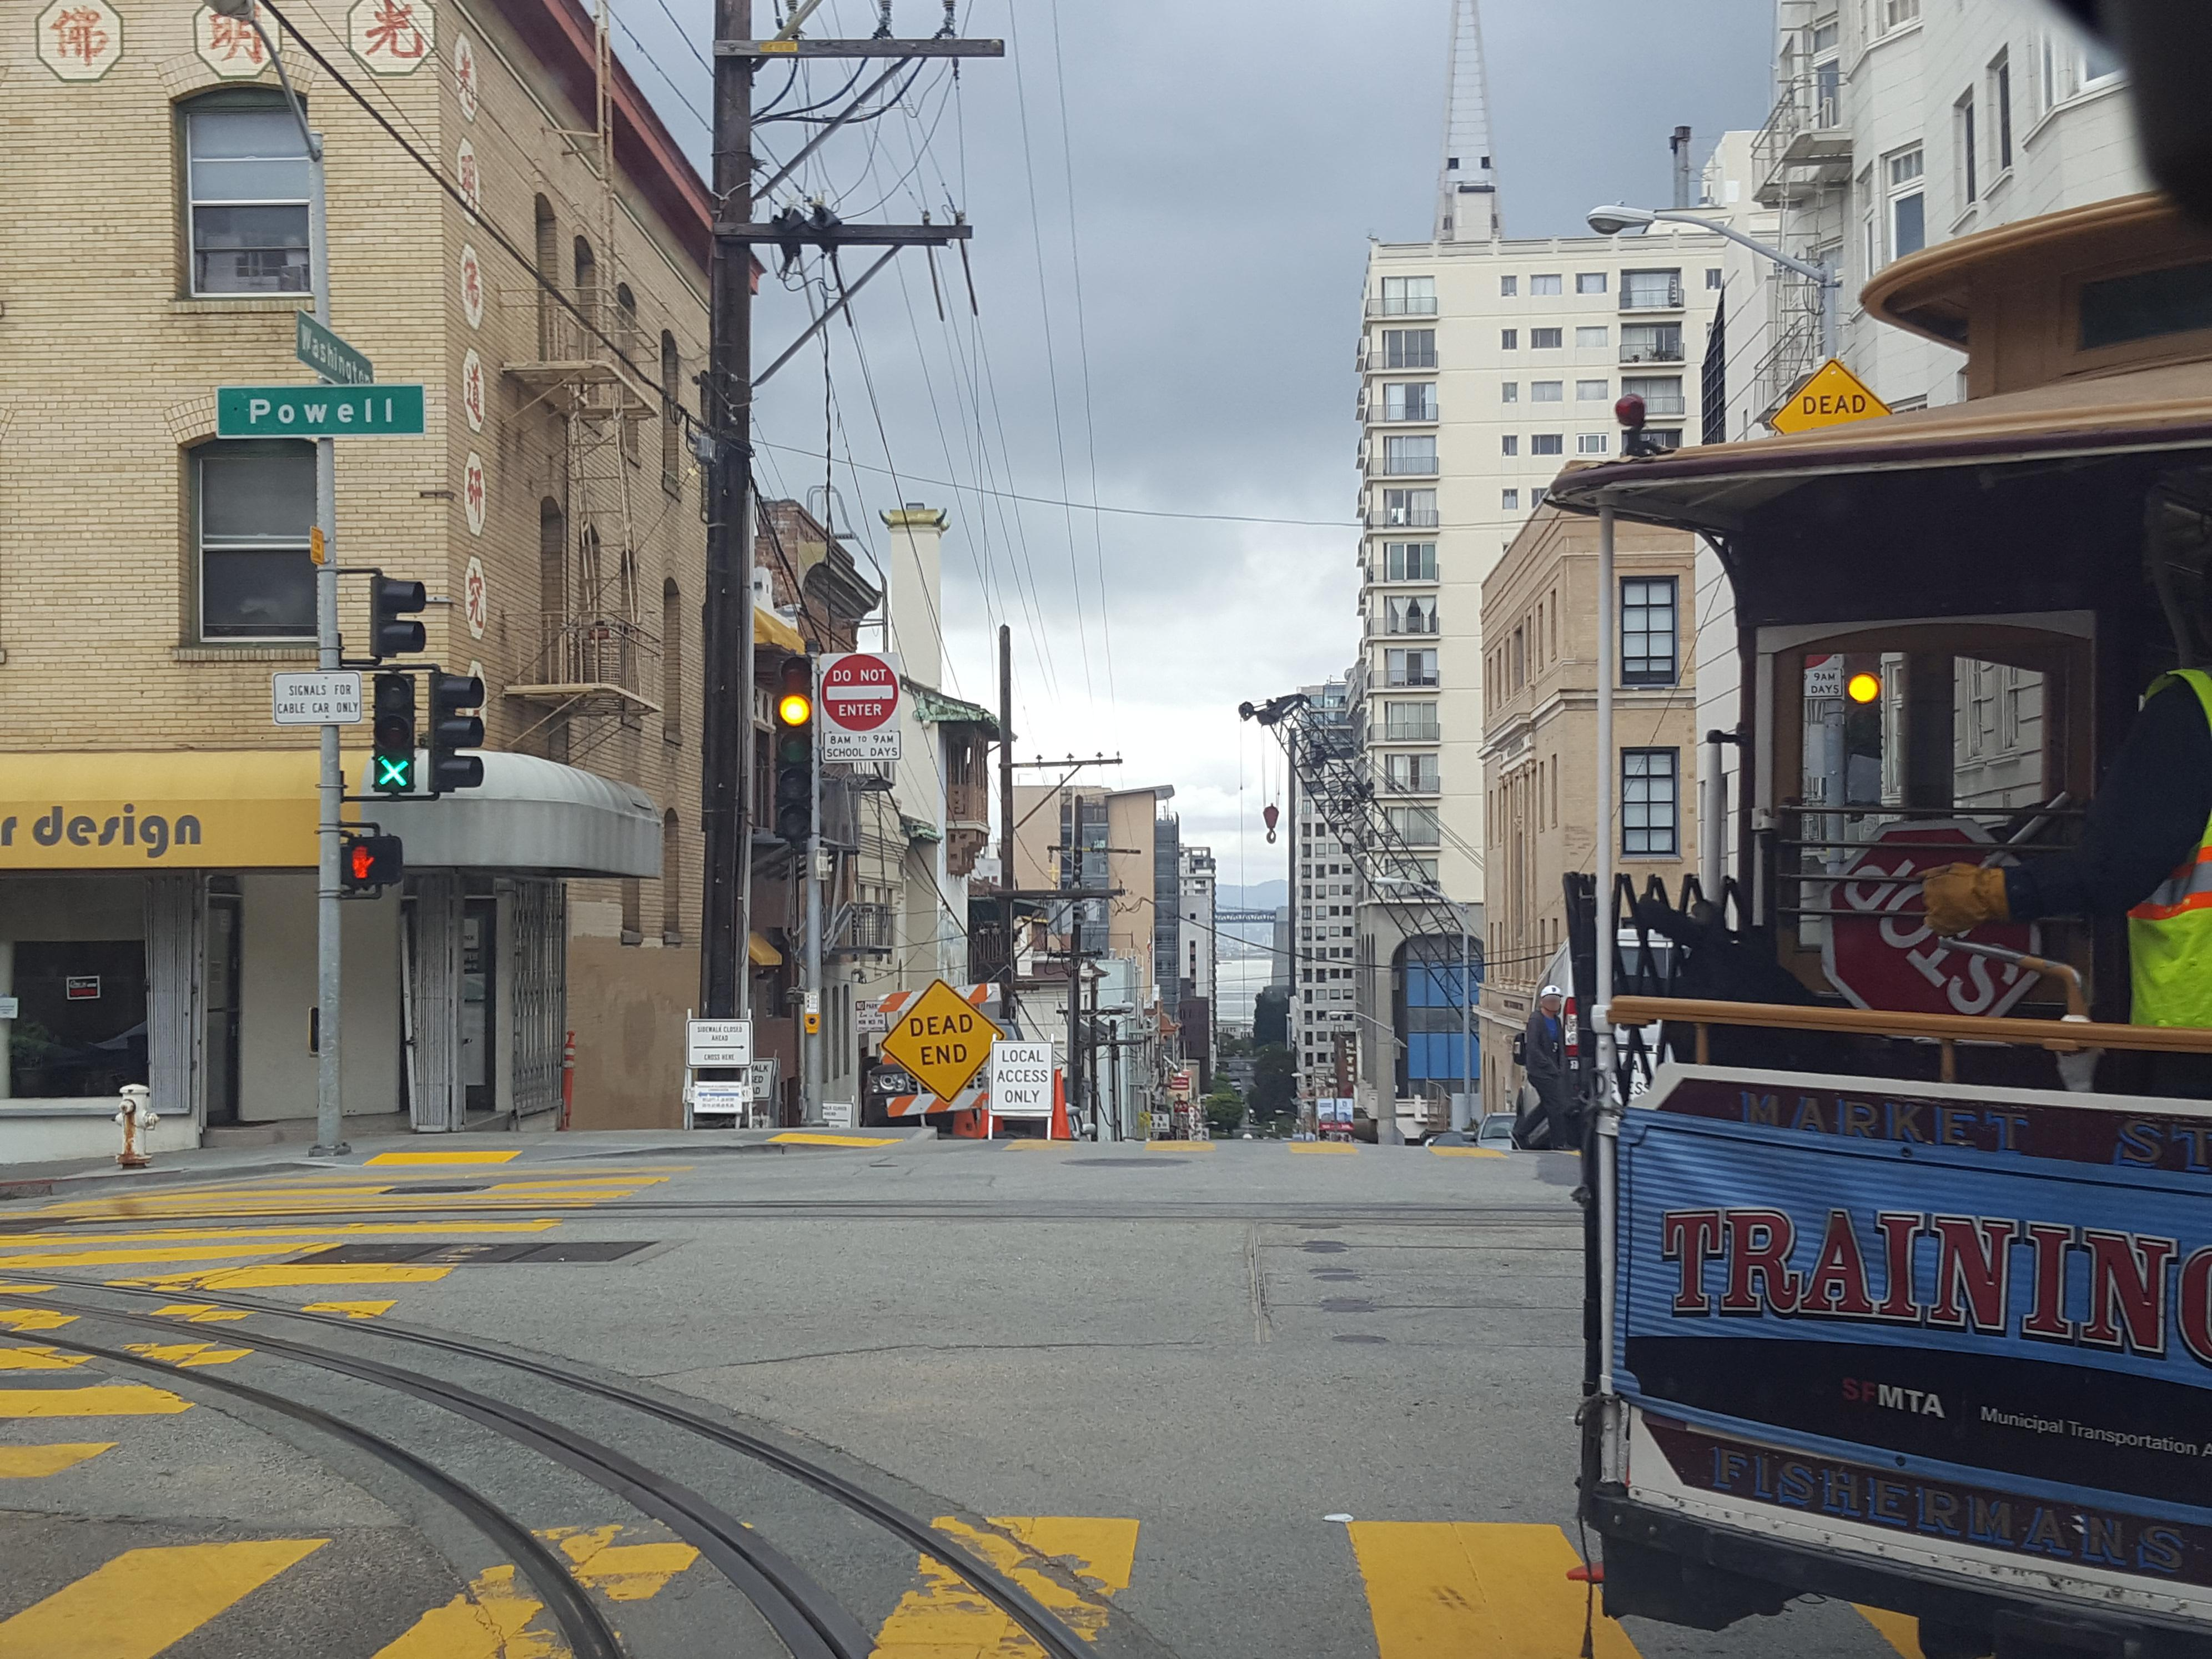vinyl banner: (1587, 1056, 2212, 1527)
